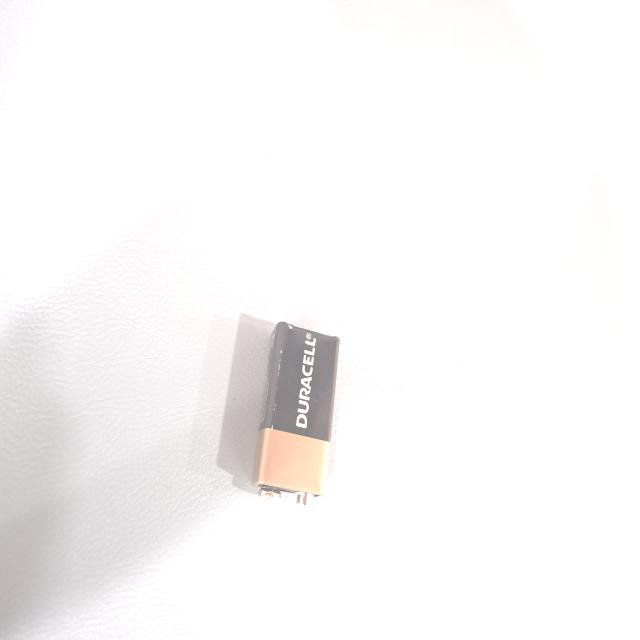9V: (240, 401, 378, 516)
